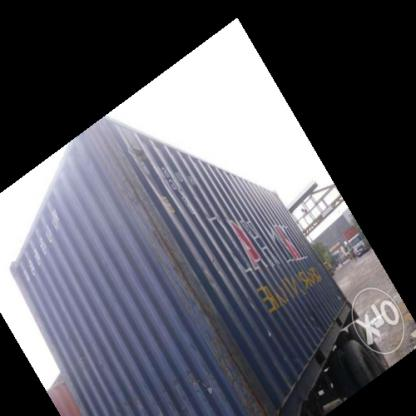Damage: (112, 131, 202, 281), (188, 273, 254, 401)
